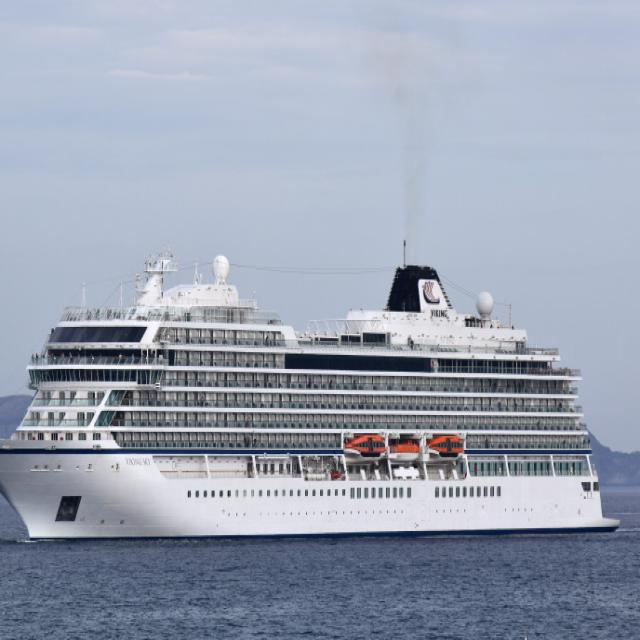cruises: (1, 237, 626, 549)
